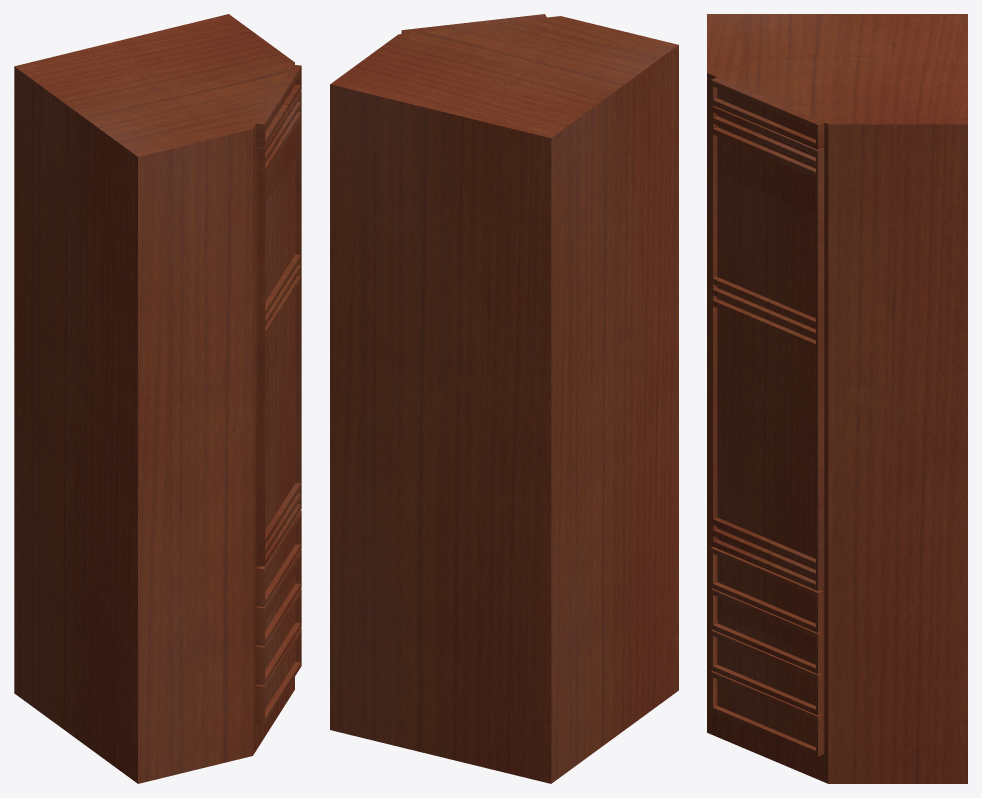
File: sweethome3d-lucapresidente-angle-wardrobe-cherry-4.glb
3 views of the same model, side by side, from view 1: azimuth 30°, elevation 25°; view 2: azimuth 150°, elevation 25°; view 3: azimuth 270°, elevation 25° (orthographic). The views are drawn at different scales.
Parts seen in each view (by area): view 1: Line28_1, Box52_8, Line30_3, Line29_2, Line31_4, Line32_5, Line33_6, Line34_7; view 2: Line28_1, Line29_2; view 3: Line28_1, Box52_8, Line30_3, Line29_2, Line31_4, Line32_5, Line33_6, Line34_7.
Part boxes in pixels (left/top/right/bottom): Line28_1: left=14, top=14, right=294, bottom=783; Box52_8: left=257, top=81, right=295, bottom=708; Line30_3: left=256, top=90, right=301, bottom=566; Line29_2: left=256, top=64, right=301, bottom=147; Line31_4: left=256, top=510, right=301, bottom=606; Line32_5: left=256, top=549, right=301, bottom=646; Line33_6: left=256, top=588, right=301, bottom=685; Line34_7: left=256, top=628, right=301, bottom=724; Line28_1: left=330, top=16, right=678, bottom=783; Line29_2: left=401, top=14, right=546, bottom=33; Line28_1: left=707, top=14, right=967, bottom=783; Box52_8: left=717, top=88, right=820, bottom=747; Line30_3: left=712, top=106, right=824, bottom=590; Line29_2: left=711, top=77, right=824, bottom=149; Line31_4: left=711, top=547, right=824, bottom=632; Line32_5: left=711, top=588, right=824, bottom=673; Line33_6: left=711, top=629, right=824, bottom=715; Line34_7: left=711, top=671, right=824, bottom=756.
Bounding box in the file's own units: 86.74 × 240 × 86.
Materials: 1 (1 with a texture image).
